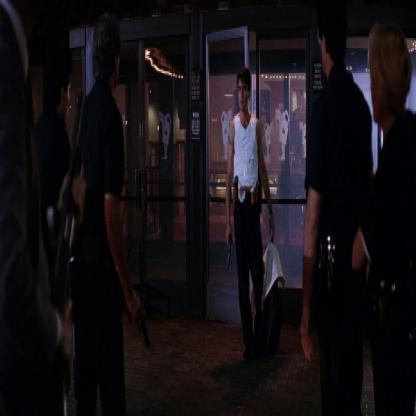Gun: (36, 83, 85, 414), (126, 286, 151, 350), (223, 225, 234, 272)
